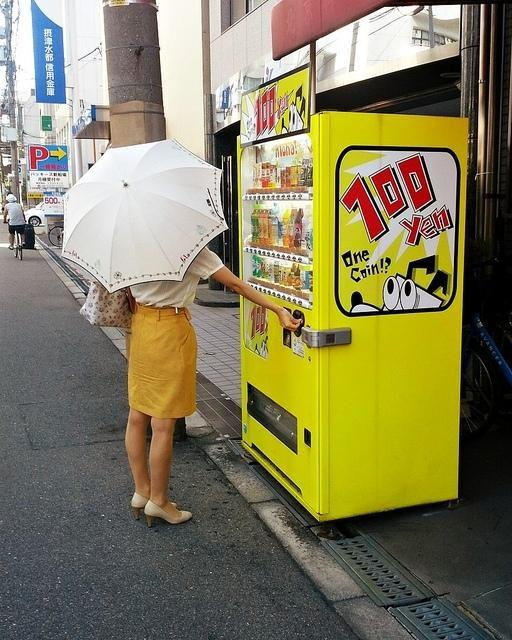bicycle: (459, 260, 512, 444), (48, 225, 64, 246), (12, 230, 22, 260)
car: (24, 200, 46, 228)
